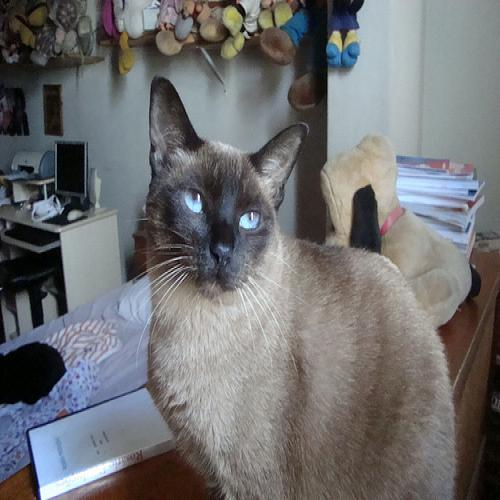siamese: (133, 55, 309, 310)
